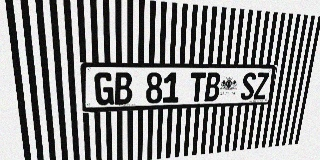1: (163, 72, 180, 103)
8: (146, 72, 163, 104)
B: (114, 72, 132, 105), (204, 72, 221, 101)
G: (94, 72, 114, 106)
S: (240, 73, 256, 100)
T: (189, 72, 206, 102)
Z: (253, 73, 269, 100)
